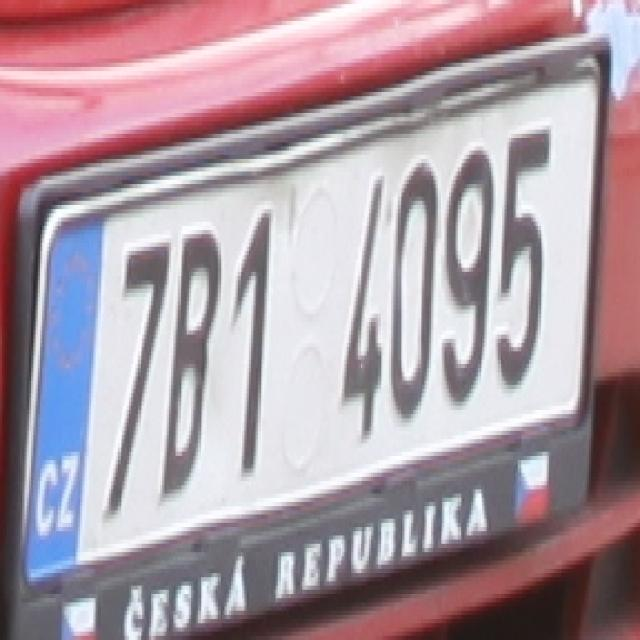0: (389, 155, 435, 422)
1: (229, 209, 273, 481)
4: (340, 172, 384, 444)
5: (495, 122, 549, 394)
7: (100, 238, 162, 514)
9: (442, 146, 493, 410)
B: (164, 226, 218, 493)
